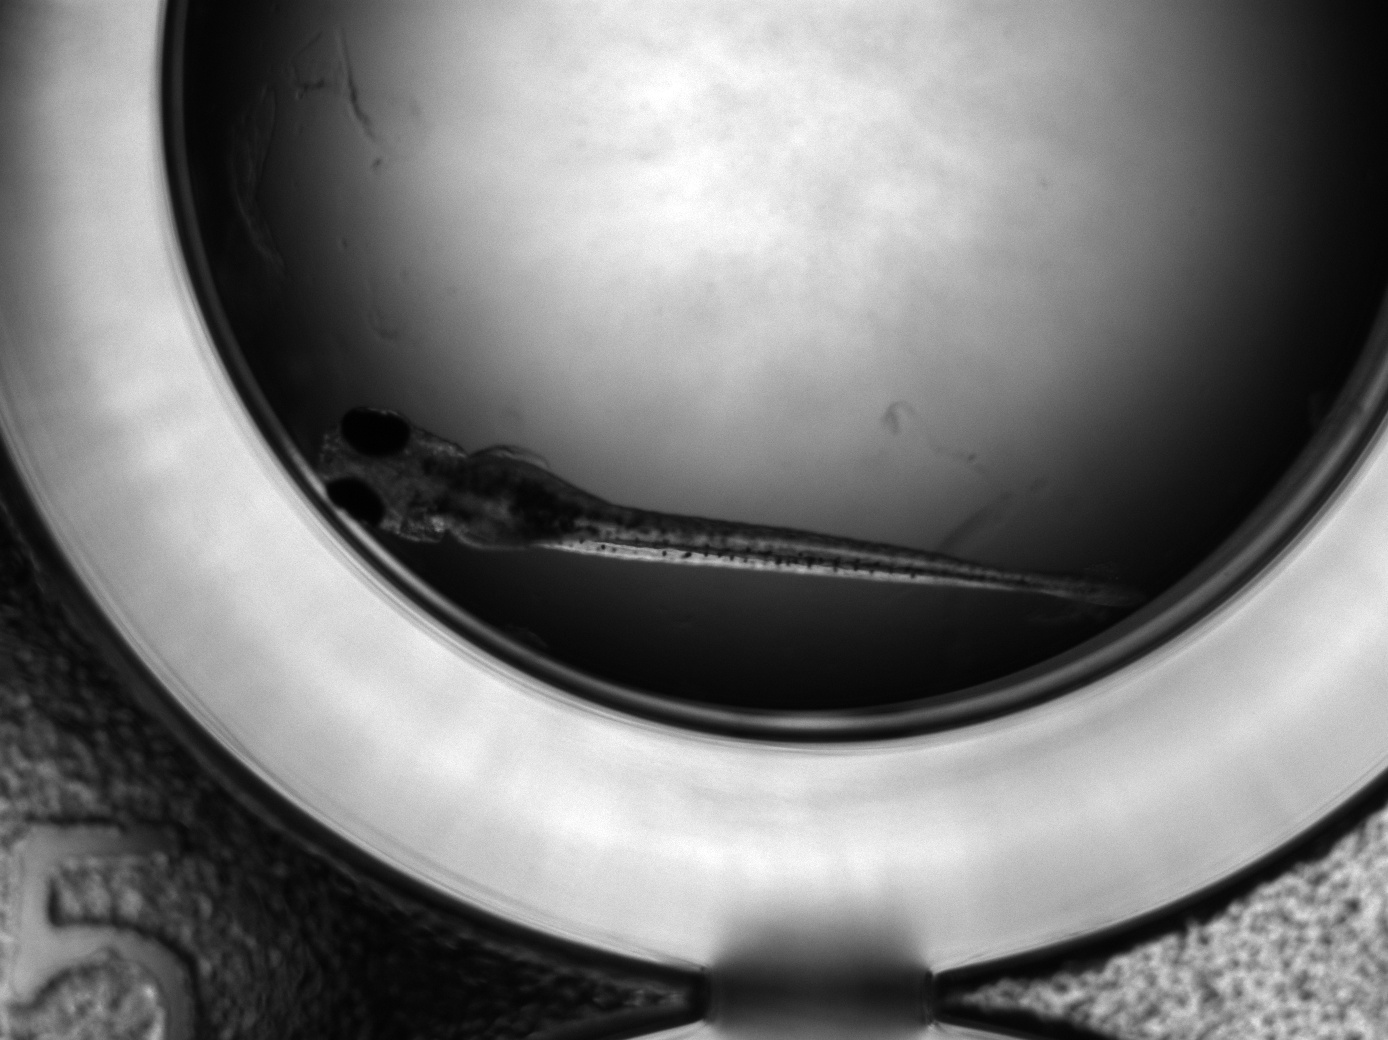embryo: (317, 405, 1132, 610)
eye: (339, 406, 411, 457), (325, 475, 387, 529)
yolksac: (442, 453, 615, 555)
